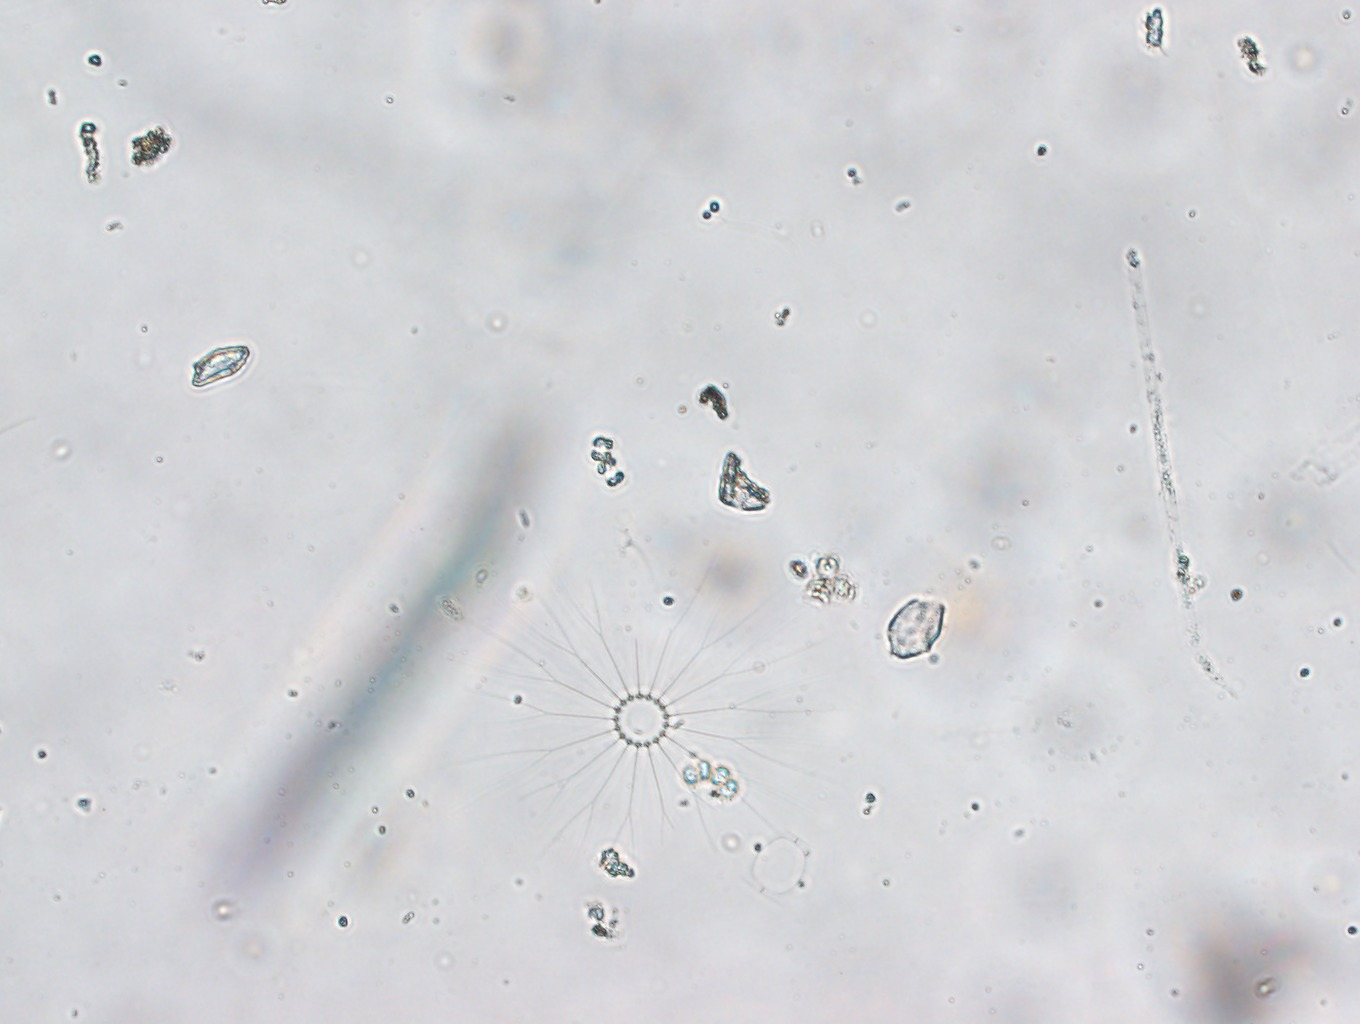bacteriastrum: (479, 568, 824, 891)
